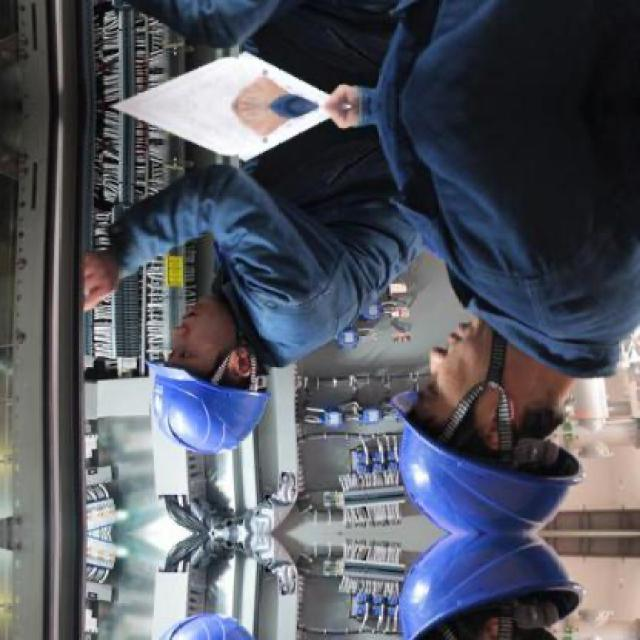con casco: (390, 378, 574, 541), (155, 347, 314, 452)
